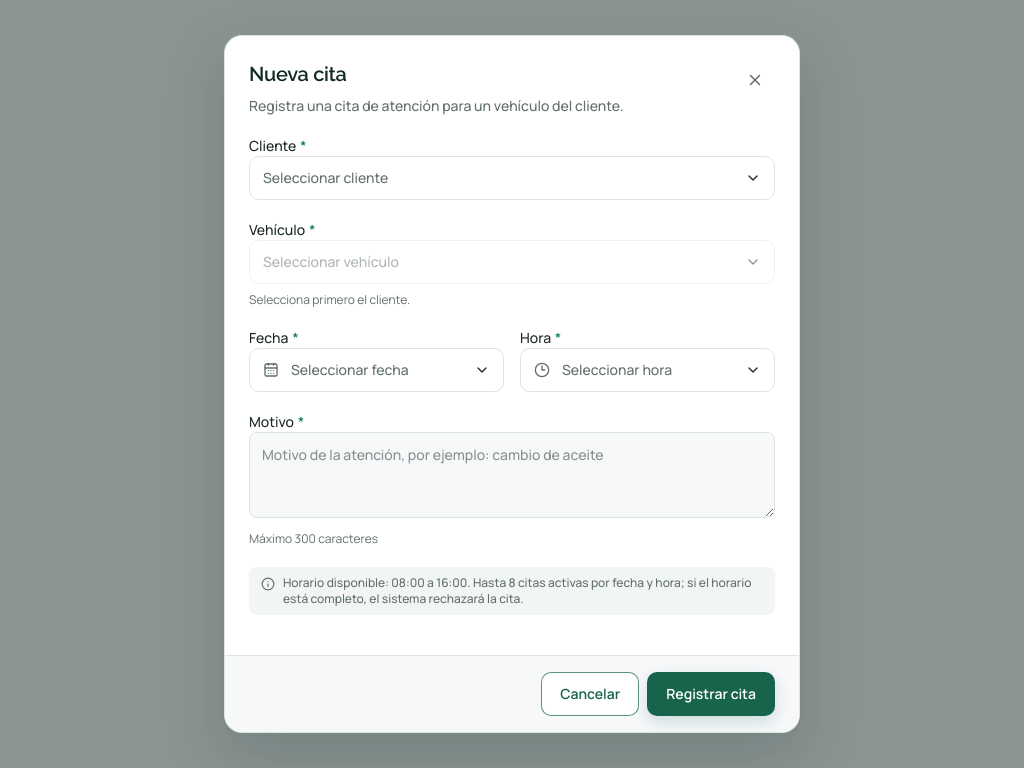
Test: Formulario de citas › refleja el vehículo elegido después de seleccionar un cliente
Click the button with aria-label "Cliente de la cita" at coordinates (326, 178), box left=249, top=156, right=775, bottom=200
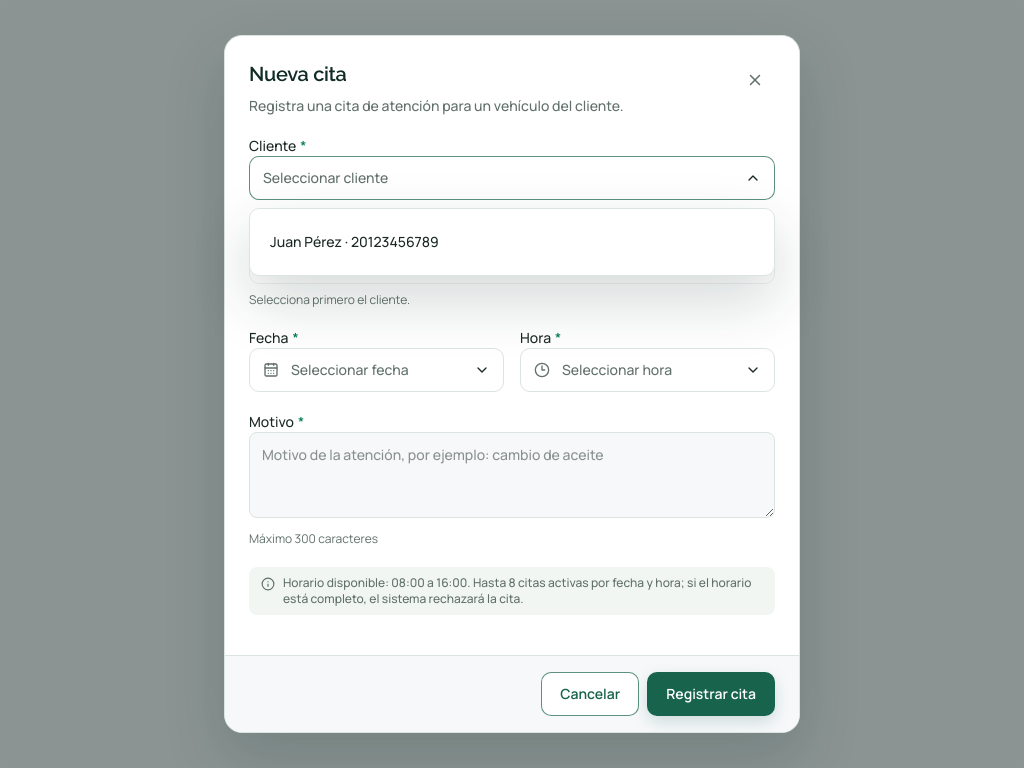
Click the option "Juan Pérez · 20123456789" at coordinates (354, 242), box left=258, top=221, right=766, bottom=263
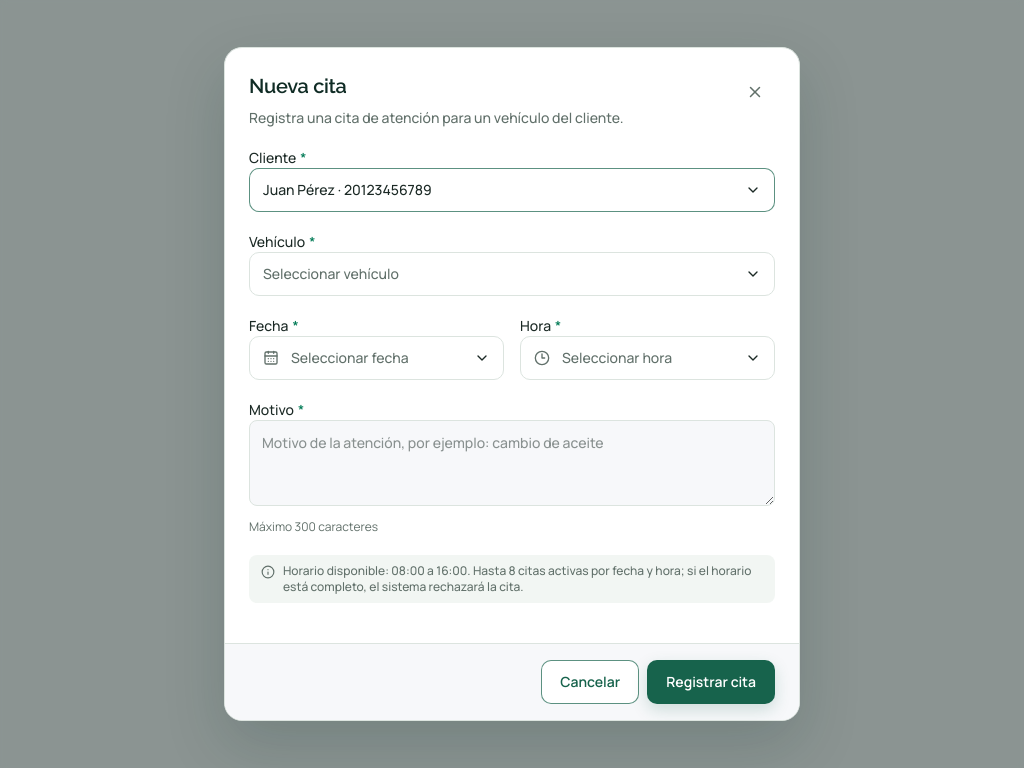
Click the button with aria-label "Vehículo de la cita" at coordinates (331, 274), box left=249, top=252, right=775, bottom=296
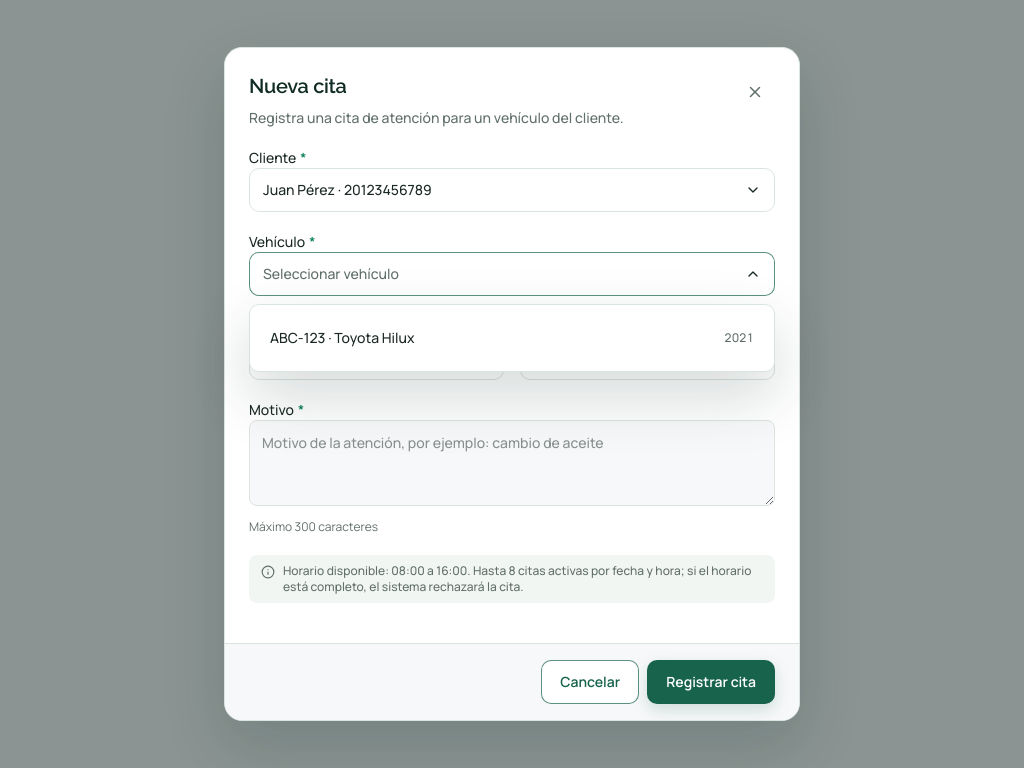
Click the option "ABC-123 · Toyota Hilux 2021" at coordinates (342, 338), box left=258, top=317, right=766, bottom=359
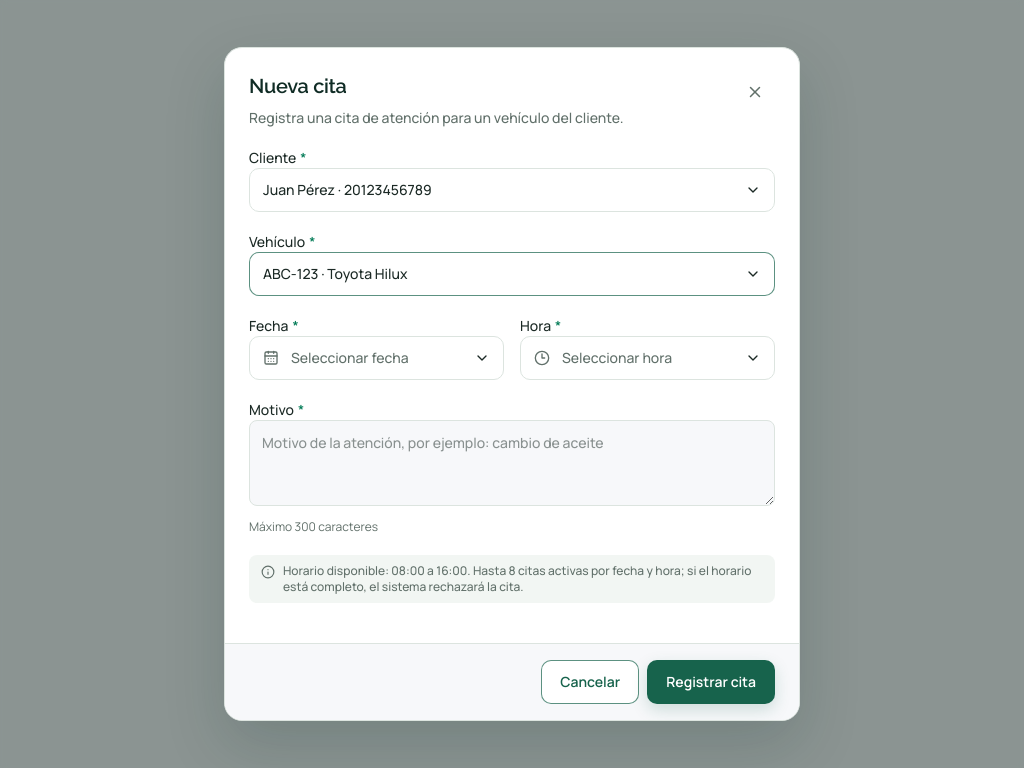
Expected: the button with aria-label "Vehículo de la cita" shows "ABC-123", left=249, top=252, right=775, bottom=296
